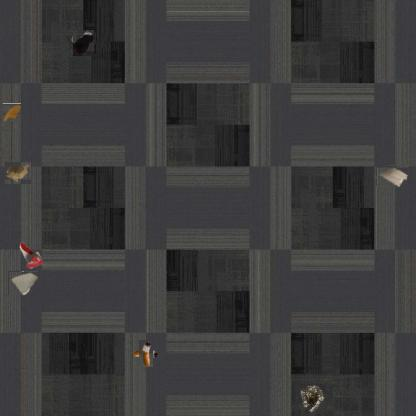dirty: (300, 386, 328, 416), (19, 239, 43, 269), (376, 165, 408, 187), (9, 271, 38, 295), (5, 162, 31, 184), (135, 343, 156, 363)
liquid: (71, 31, 95, 55), (3, 104, 22, 122)
